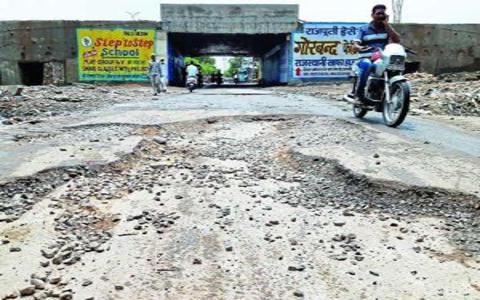patchy roads: (15, 102, 227, 285), (241, 138, 462, 282)
